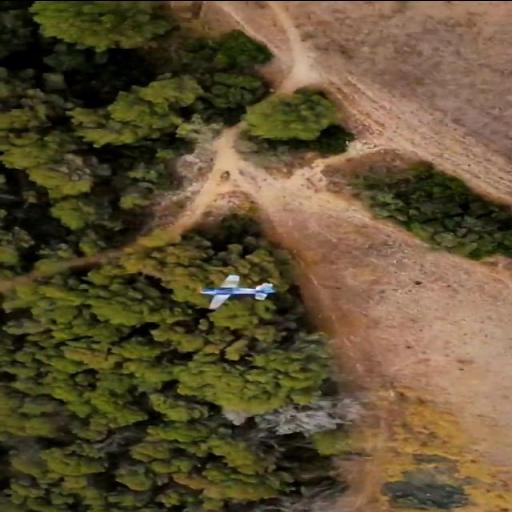uav: (198, 272, 272, 306)
